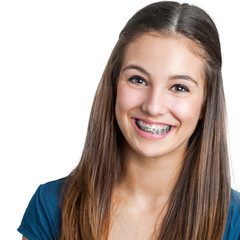teen: (99, 14, 218, 152)
